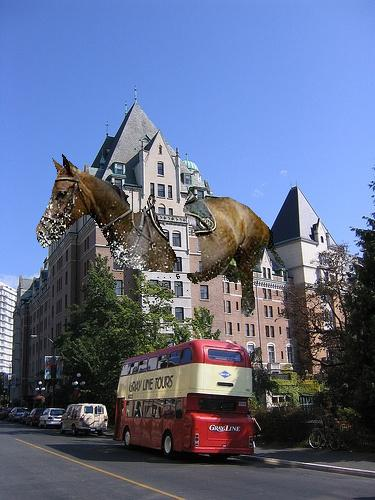tampered: (36, 155, 285, 349)
